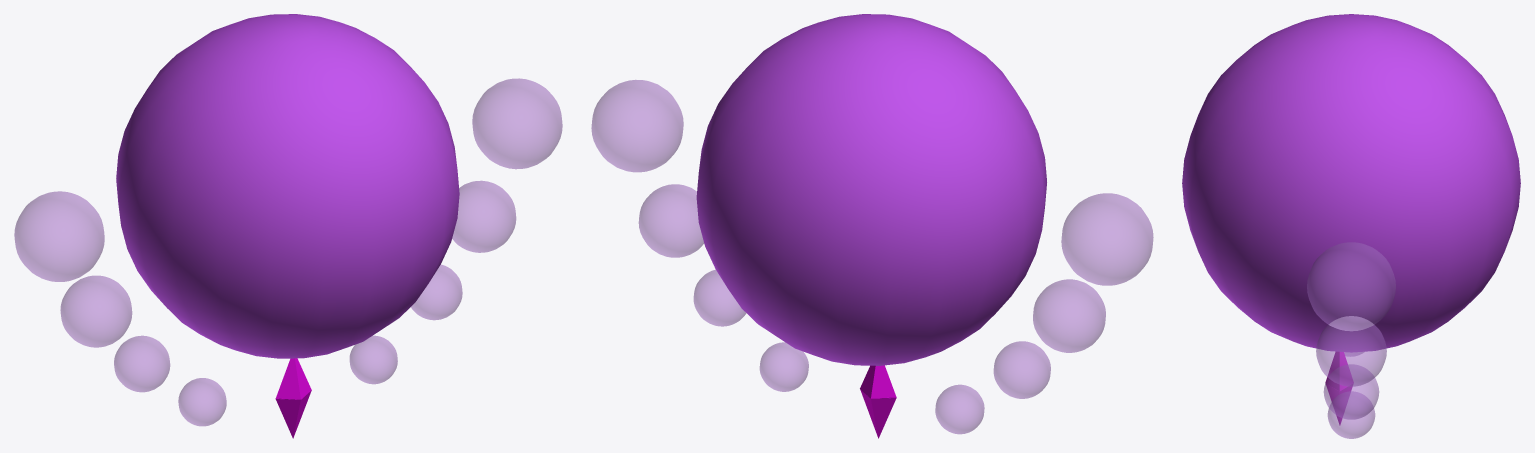
Rendered from plain2.fbx.
3 views of the same model, side by side, from view 1: azimuth 30°, elevation 25°; view 2: azimuth 150°, elevation 25°; view 3: azimuth 270°, elevation 25° (orthographic). The views are drawn at different scales.
Visible parts, largest first — view 1: pSphere2, pSphere7, pasted__pSphere7, pasted__pSphere5, pSphere5, pasted__pSphere6, pasted__pSphere4, pSphere4, pSphere6, pCone1, pasted__pCone1; view 2: pSphere2, pSphere7, pasted__pSphere7, pasted__pSphere5, pSphere5, pasted__pSphere6, pasted__pSphere4, pSphere4, pSphere6, pCone1, pasted__pCone1; view 3: pSphere2, pSphere7, pSphere5, pSphere6, pSphere4, pCone1, pasted__pCone1.
Boxes of the visible parts, <box> form: pSphere2: <box>116,14,459,358</box>; pSphere7: <box>472,78,562,169</box>; pasted__pSphere7: <box>14,191,104,281</box>; pasted__pSphere5: <box>60,275,132,347</box>; pSphere5: <box>452,180,516,252</box>; pasted__pSphere6: <box>114,335,170,392</box>; pasted__pSphere4: <box>178,378,226,426</box>; pSphere4: <box>349,335,397,384</box>; pSphere6: <box>411,264,462,320</box>; pCone1: <box>275,358,311,399</box>; pasted__pCone1: <box>275,390,311,438</box>; pSphere2: <box>696,14,1046,365</box>; pSphere7: <box>591,80,683,172</box>; pasted__pSphere7: <box>1061,193,1153,285</box>; pasted__pSphere5: <box>1033,279,1105,352</box>; pSphere5: <box>638,184,703,257</box>; pasted__pSphere6: <box>993,341,1050,398</box>; pasted__pSphere4: <box>935,384,984,434</box>; pSphere4: <box>759,342,808,391</box>; pSphere6: <box>693,269,746,326</box>; pCone1: <box>860,365,896,398</box>; pasted__pCone1: <box>860,390,896,438</box>; pSphere2: <box>1182,14,1520,352</box>; pSphere7: <box>1307,242,1395,331</box>; pSphere5: <box>1316,316,1386,386</box>; pSphere6: <box>1323,364,1379,419</box>; pSphere4: <box>1327,391,1375,438</box>; pCone1: <box>1325,352,1353,391</box>; pasted__pCone1: <box>1326,384,1352,424</box>.
Size of the model in its own units: 3.6 by 2.59 by 2.
